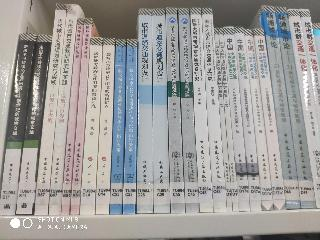book-spine: (271, 6, 315, 209), (260, 4, 301, 210), (35, 3, 67, 216), (0, 33, 35, 216), (16, 34, 51, 216), (289, 8, 320, 207), (50, 5, 78, 215), (242, 28, 273, 210), (254, 29, 284, 210), (200, 9, 226, 212), (234, 27, 261, 210), (224, 27, 250, 211), (189, 9, 212, 212), (177, 9, 199, 211), (164, 8, 184, 212), (71, 19, 91, 215), (63, 19, 83, 214), (82, 38, 103, 215), (218, 29, 238, 211), (151, 10, 169, 212), (136, 9, 153, 212), (214, 28, 232, 212), (97, 38, 114, 214), (298, 8, 320, 129), (111, 40, 126, 213), (124, 40, 138, 213)
